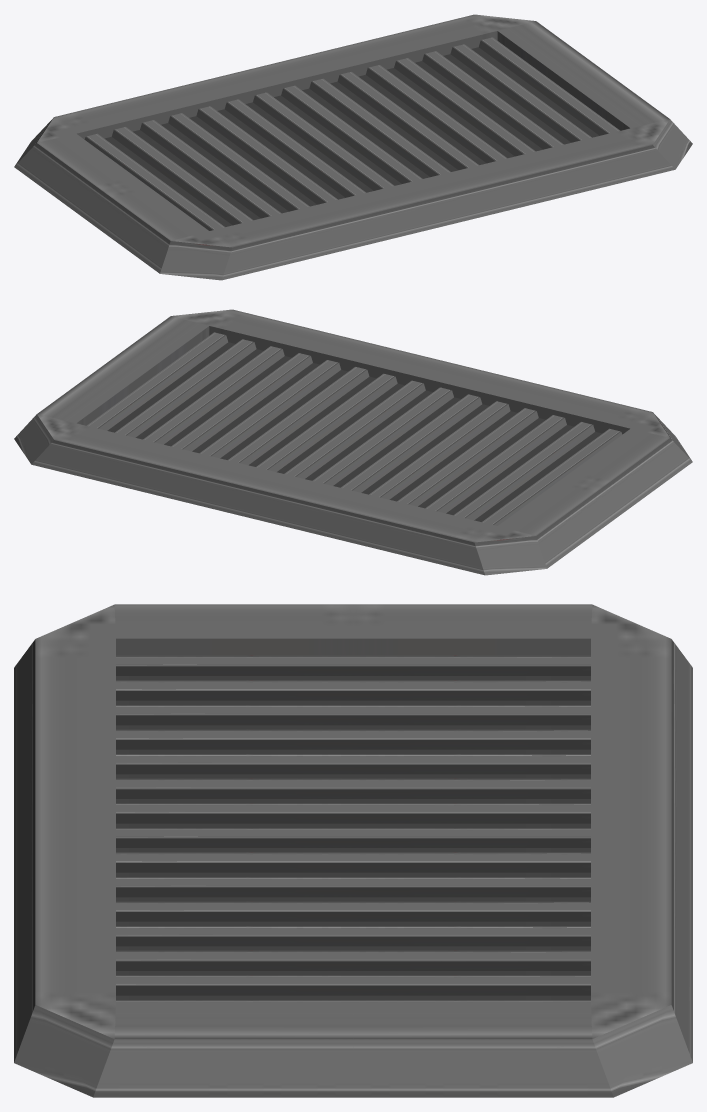
The model's file is sf_vent_small.glb.
3 renders of one model, top to bottom at view 1: azimuth 30°, elevation 25°; view 2: azimuth 150°, elevation 25°; view 3: azimuth 270°, elevation 25°, orthographic. The views are drawn at different scales.
Visible parts, largest first — view 1: Prop_Vent_Small; view 2: Prop_Vent_Small; view 3: Prop_Vent_Small.
Part boxes in pixels (x1,y1,x2,y2): Prop_Vent_Small: (14,14,692,280); Prop_Vent_Small: (14,309,692,575); Prop_Vent_Small: (14,604,692,1097).
Bounding box in the file's own units: 1 × 0.0438 × 0.6183.
3 materials, 2 textured.
